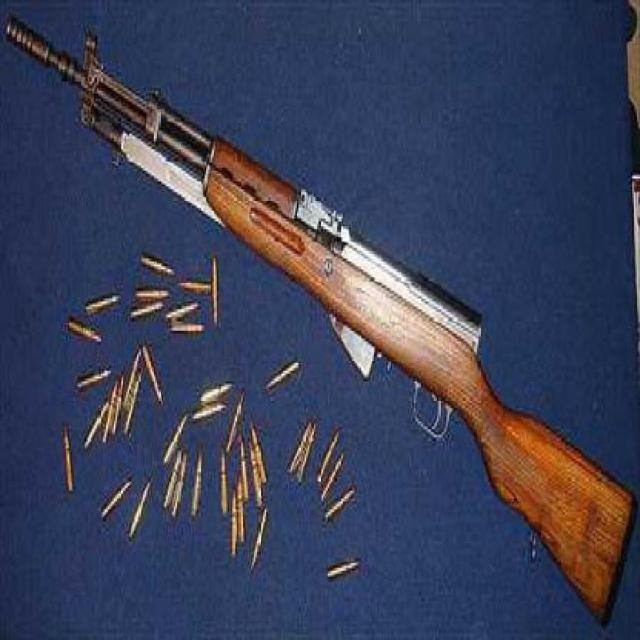weapon: (8, 18, 630, 626)
